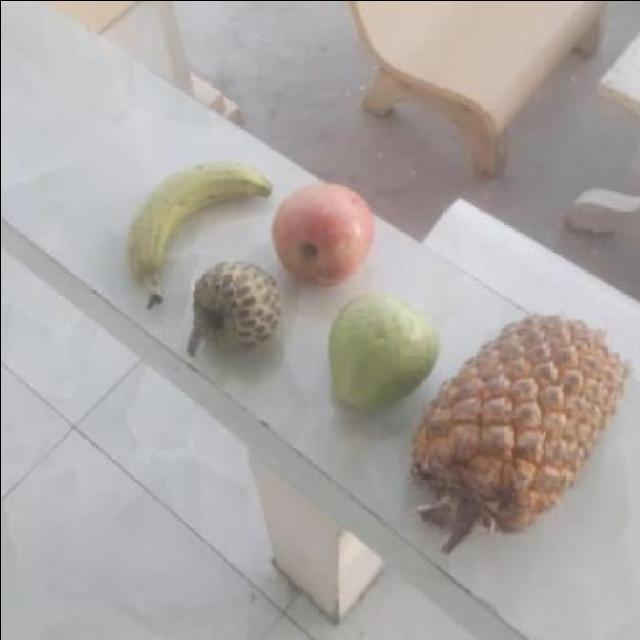apple: (266, 183, 380, 287)
banana: (123, 158, 283, 302)
guava: (326, 294, 444, 414)
pineapple: (409, 312, 633, 546)
sugar apple: (190, 259, 284, 354)
